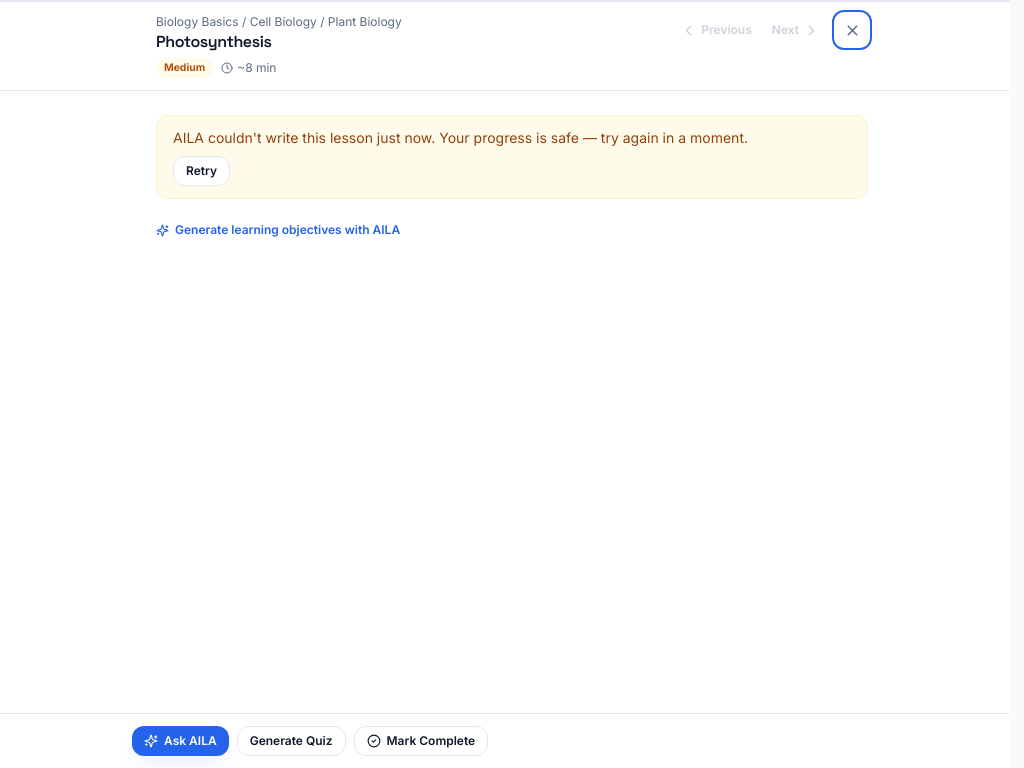
Test case: LessonReader › shows the content-unavailable banner with Retry when generation failed, and refetches on retry
Expected: the text "couldn.t write this lesson" is shown, 173,129 -> 748,146
Click the button "Retry" at [202, 171], box 173,156 -> 230,186
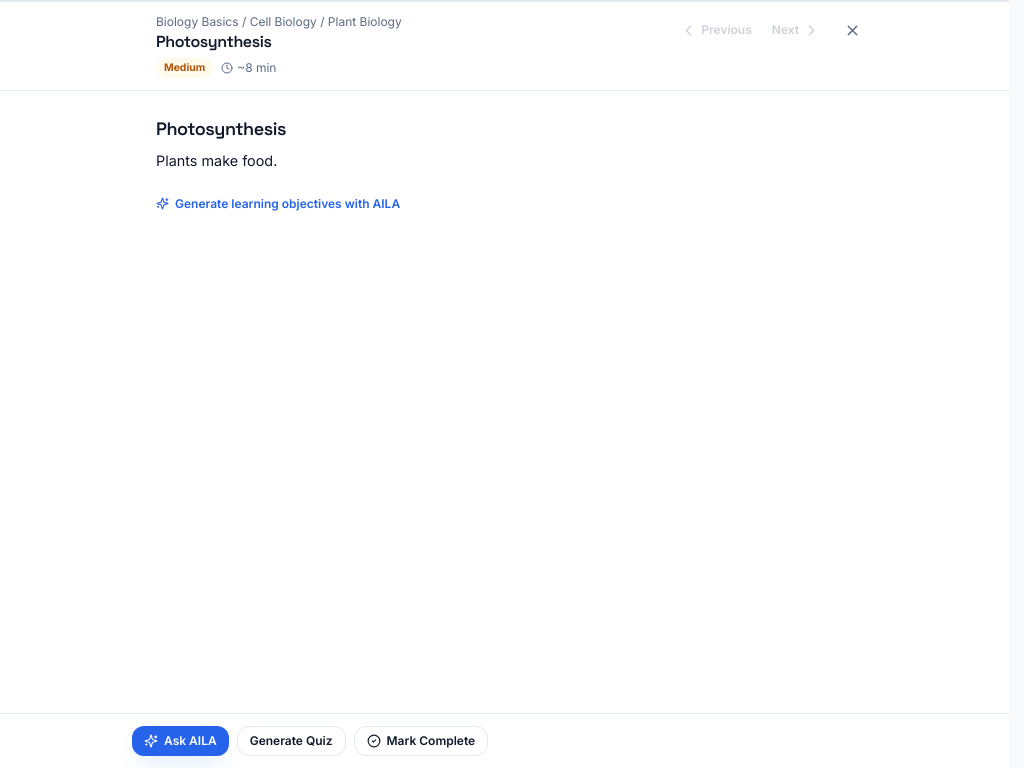
Now the text "Plants make food." is shown, box 156,152 -> 277,169
